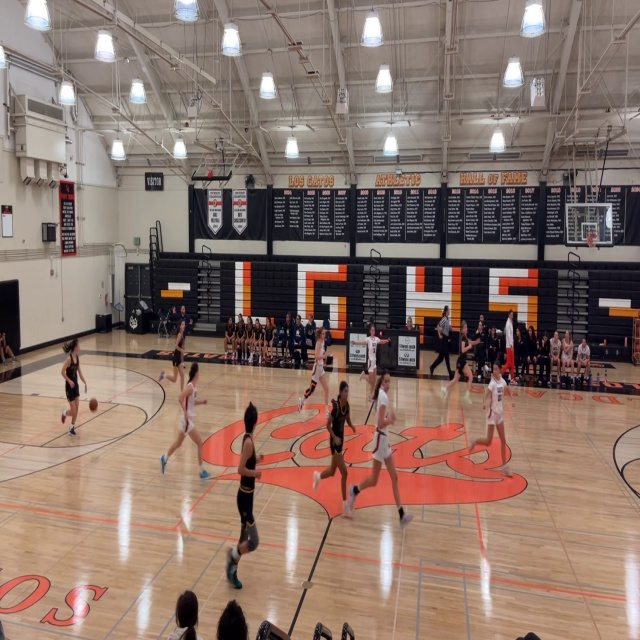Basketball: (88, 398, 98, 411)
